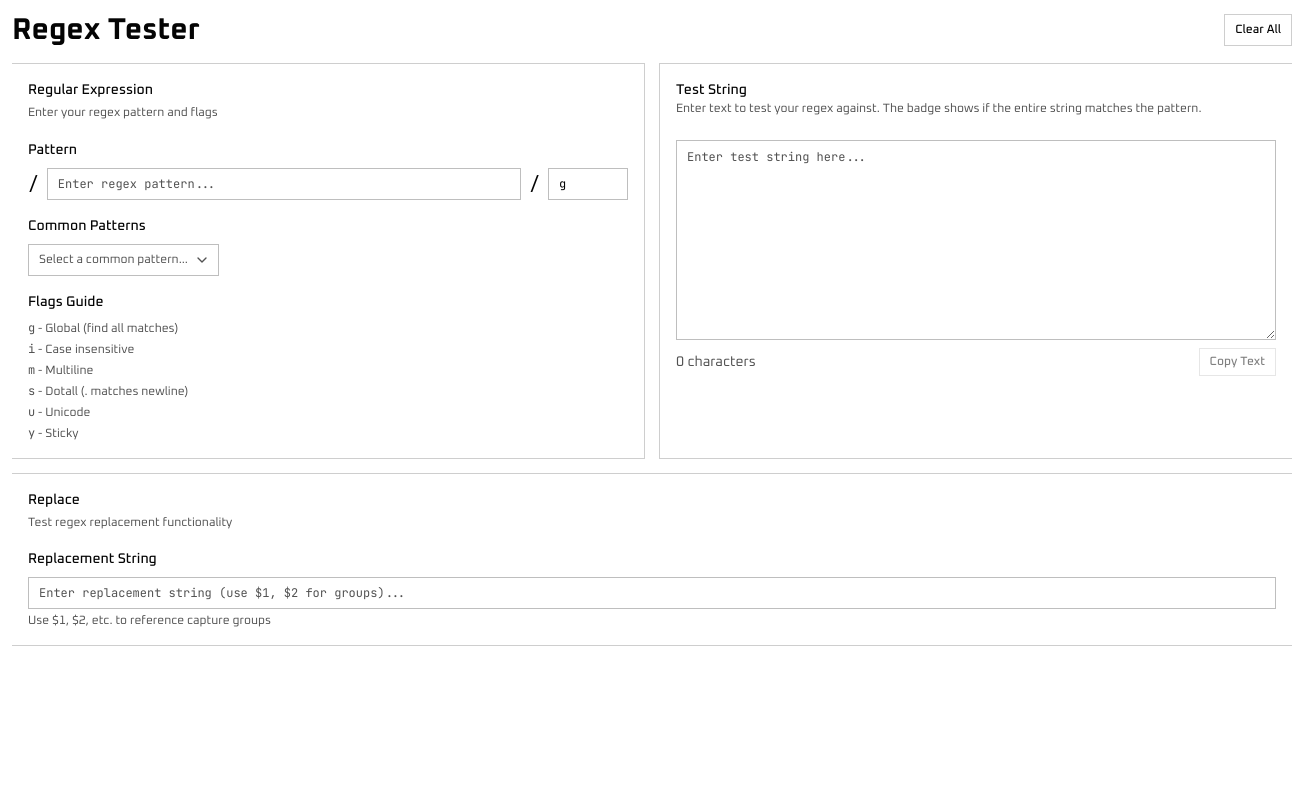
Scenario: RegexPage › shows character count for test string
// Enter test string
Type "hello" into the text box with placeholder "Enter test string here...".
click(976, 240); type("hello")  # box [676,140,1276,340]
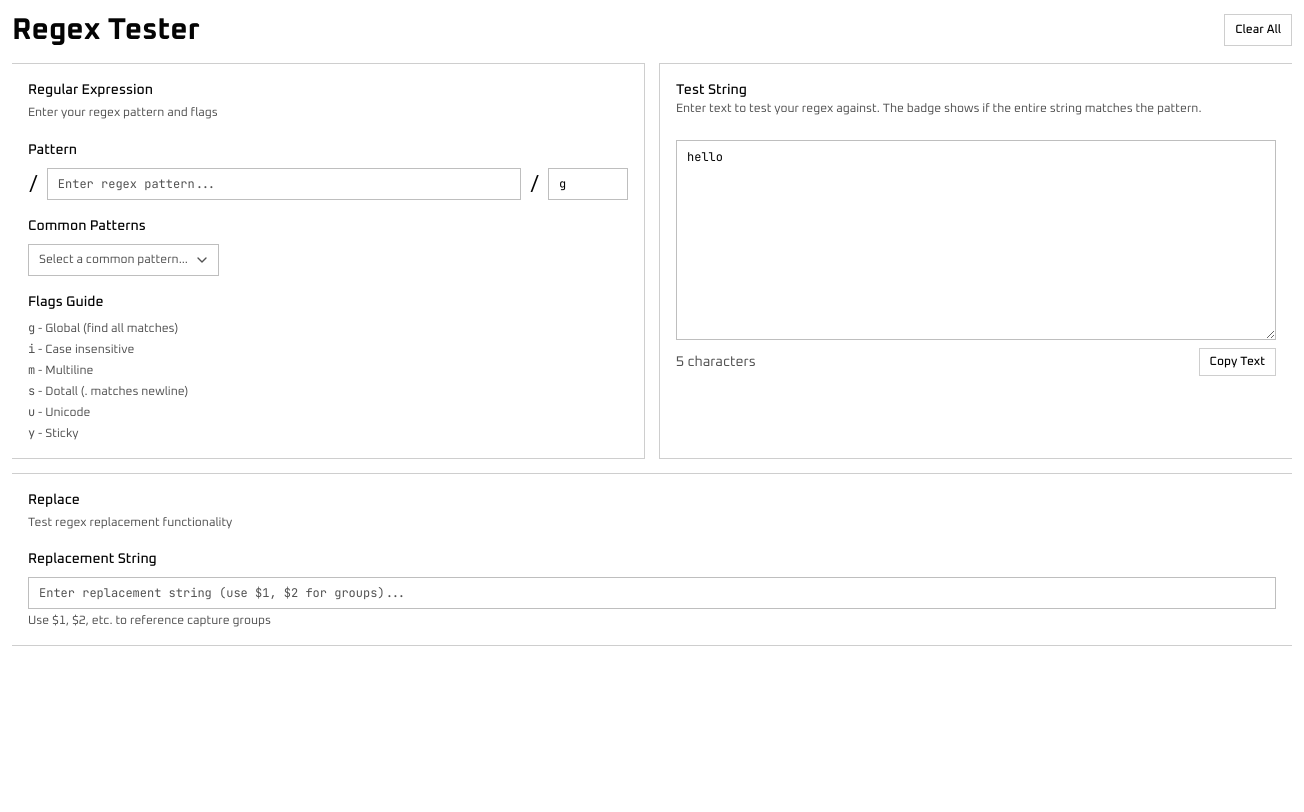
Check: the text "5 characters" is shown, box [676,352,756,372]
